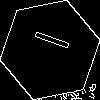I: (25, 25, 71, 52)
